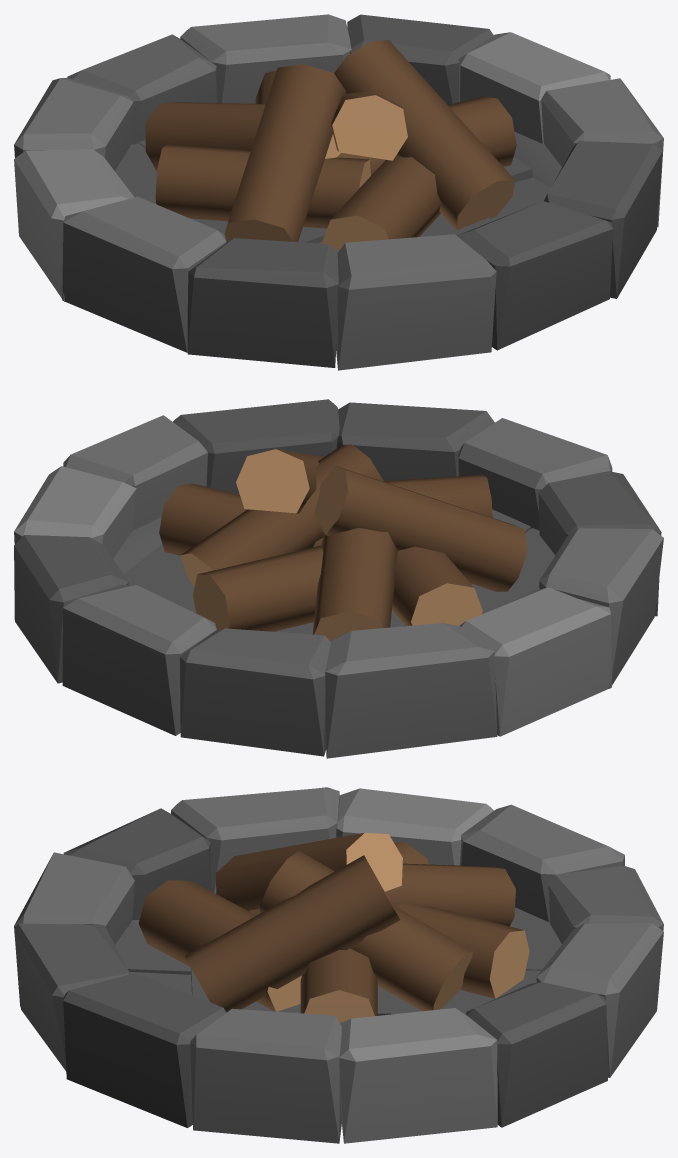
The model's file is Fire_C.fbx.
The picture shows the model from 3 angles, top to bottom: view 1: azimuth 30°, elevation 25°; view 2: azimuth 150°, elevation 25°; view 3: azimuth 270°, elevation 25°; orthographic projection.
Parts seen in each view (by area): view 1: Fire_C; view 2: Fire_C; view 3: Fire_C.
Boxes of the visible parts, box(x1,y1,x2,y2) form: Fire_C: box(14, 14, 663, 370); Fire_C: box(14, 399, 663, 758); Fire_C: box(14, 787, 663, 1143).
Bounding box in the file's own units: 156 × 45.48 × 156.
